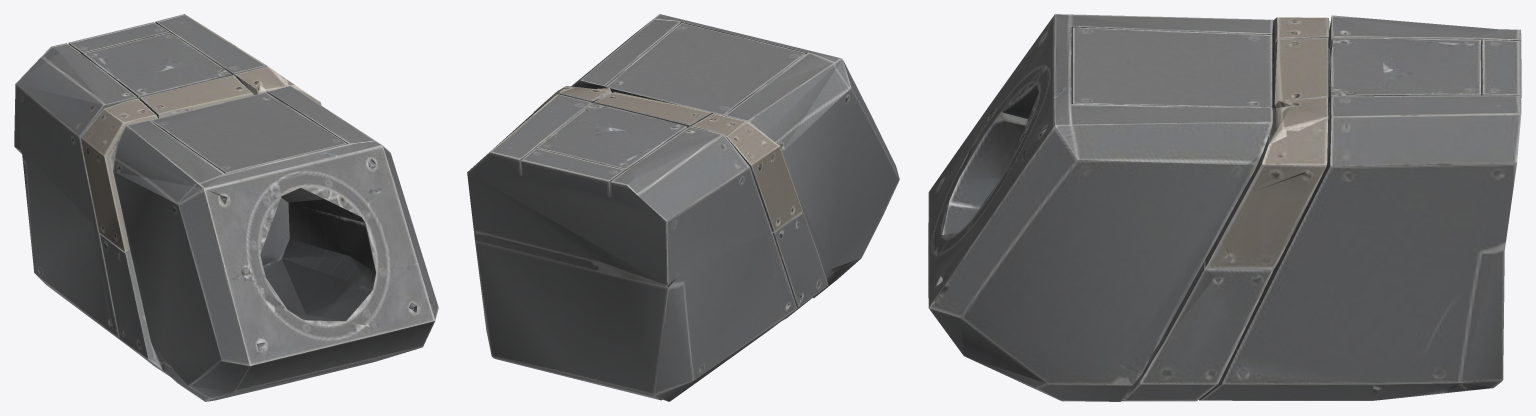
Rendered from shared_defence_battery__elevation_module_lod1.glb.
3 views of the same model, side by side, from view 1: azimuth 30°, elevation 25°; view 2: azimuth 150°, elevation 25°; view 3: azimuth 270°, elevation 25° (orthographic). The views are drawn at different scales.
Visible parts, largest first — view 1: mesh_node; view 2: mesh_node; view 3: mesh_node.
Part boxes in pixels (bbox=[...]): mesh_node: bbox=[14, 14, 438, 401]; mesh_node: bbox=[467, 14, 899, 401]; mesh_node: bbox=[928, 14, 1521, 401].
Bounding box in the file's own units: 3.68 × 3.53 × 6.69.
Materials: 1 (1 with a texture image).
